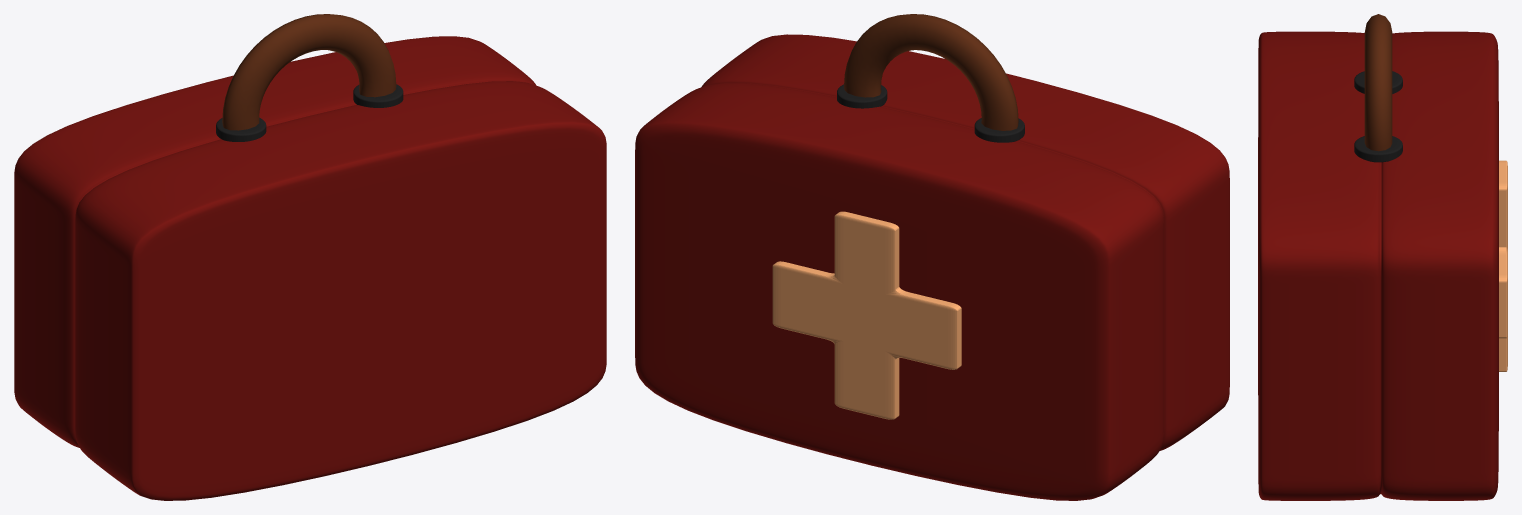
The model's file is Аптечка.obj.
3 renders of one model, left to right at view 1: azimuth 30°, elevation 25°; view 2: azimuth 150°, elevation 25°; view 3: azimuth 270°, elevation 25°, orthographic. The views are drawn at different scales.
Parts seen in each view (by area): view 1: Cube, Torus, Cylinder, Cylinder.001; view 2: Cube, Cube.001, Torus, Cylinder, Cylinder.001; view 3: Cube, Torus, Cube.001, Cylinder.001, Cylinder.
Part boxes in pixels (bbox=[...]): Cube: bbox=[14, 36, 606, 500]; Torus: bbox=[222, 14, 396, 130]; Cylinder: bbox=[216, 117, 266, 141]; Cylinder.001: bbox=[353, 84, 403, 107]; Cube: bbox=[635, 34, 1229, 500]; Cube.001: bbox=[772, 211, 961, 419]; Torus: bbox=[844, 14, 1018, 130]; Cylinder: bbox=[974, 118, 1024, 142]; Cylinder.001: bbox=[837, 84, 887, 108]; Cube: bbox=[1258, 31, 1498, 500]; Torus: bbox=[1364, 14, 1392, 151]; Cube.001: bbox=[1499, 160, 1507, 371]; Cylinder.001: bbox=[1354, 136, 1402, 162]; Cylinder: bbox=[1354, 71, 1402, 93].
Size of the model in its own units: 2.7 by 2.2 by 1.26.
